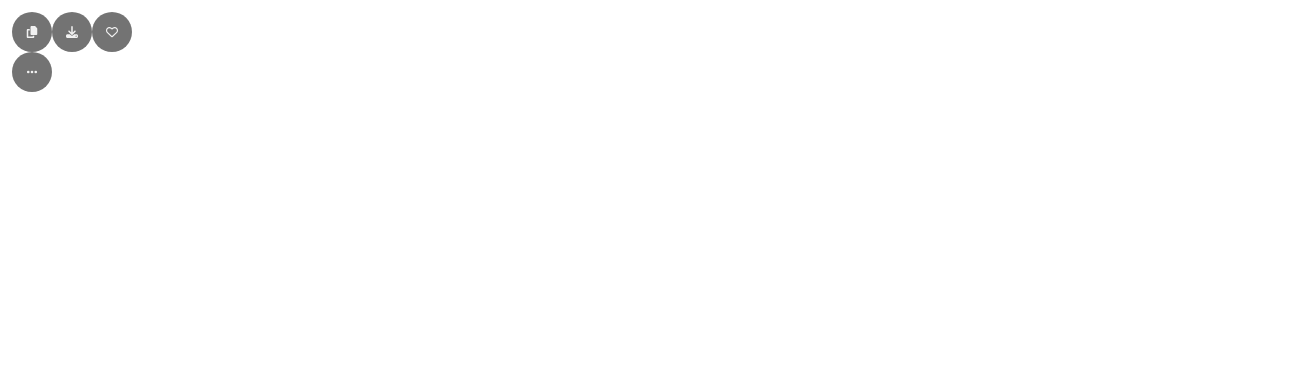
Test: ImageActionButtons › disables delete while this image is deleting and uses share fallback without a target
This screenshot has width=1292, height=376.
Click the button named "More actions" at (32, 72), box [12, 52, 52, 92]
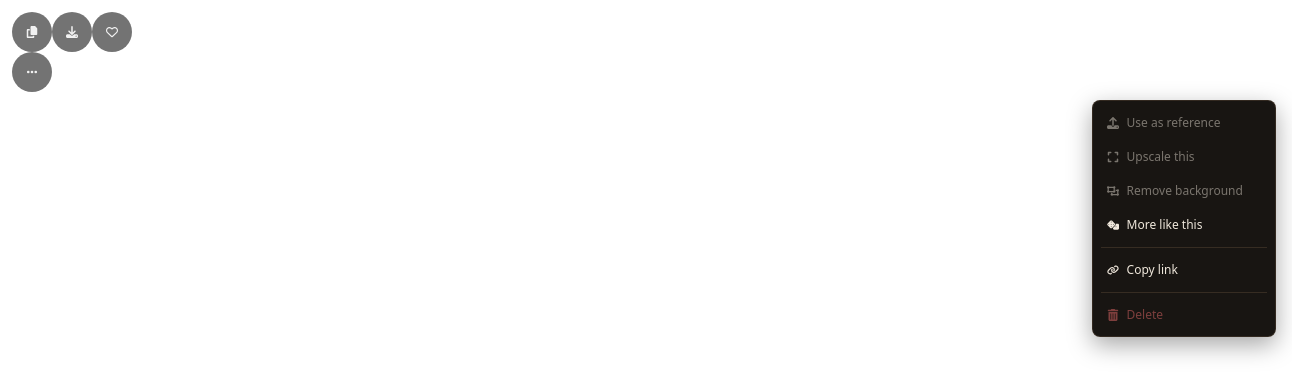
Expected: the menu item "Delete" is disabled, [1099, 299, 1269, 331]
